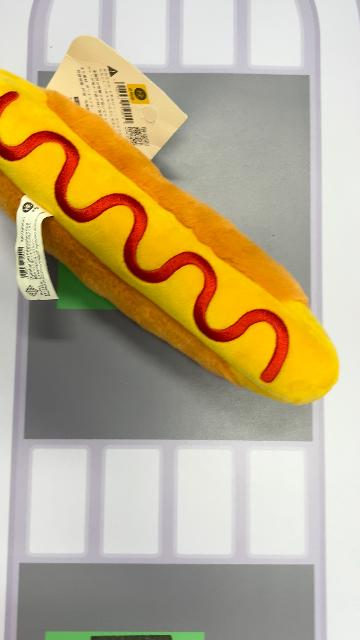hotdog: (1, 69, 340, 408)
